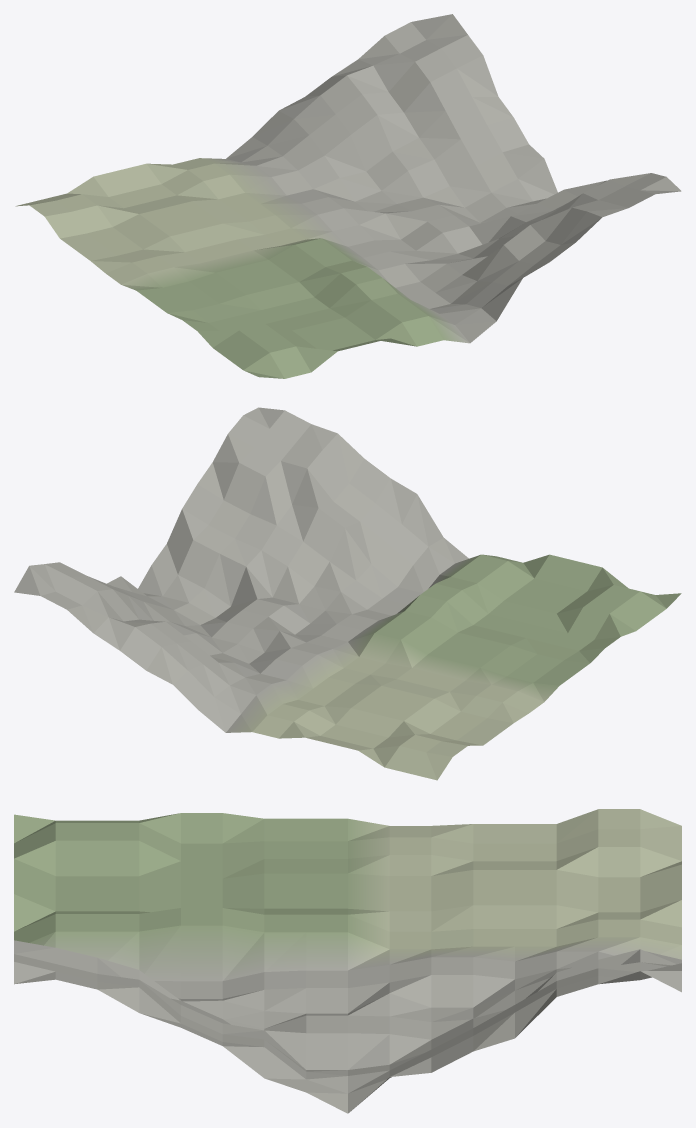
The picture shows the model from 3 angles, top to bottom: view 1: azimuth 30°, elevation 25°; view 2: azimuth 150°, elevation 25°; view 3: azimuth 270°, elevation 25°; orthographic projection. The views are drawn at different scales.
Size of the model in its own units: 32 by 8.02 by 32.
